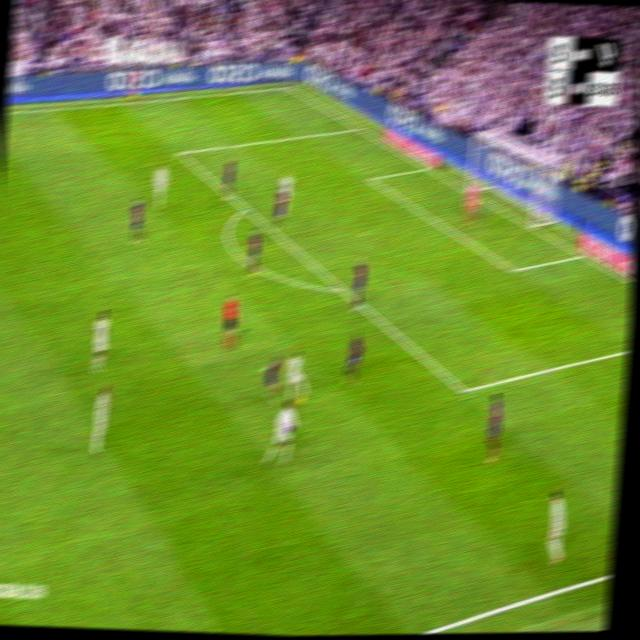bigarea_bottom_inner: (456, 377, 472, 404)
bigarea_top_inner: (176, 145, 186, 159)
bigarea_top_outter: (353, 121, 365, 134)
bottom_arc_area_intersection: (335, 279, 349, 297)
corner: (285, 82, 296, 90)
smallarea_top_inner: (366, 172, 376, 184)
top_arc_area_intersection: (239, 199, 252, 215)
